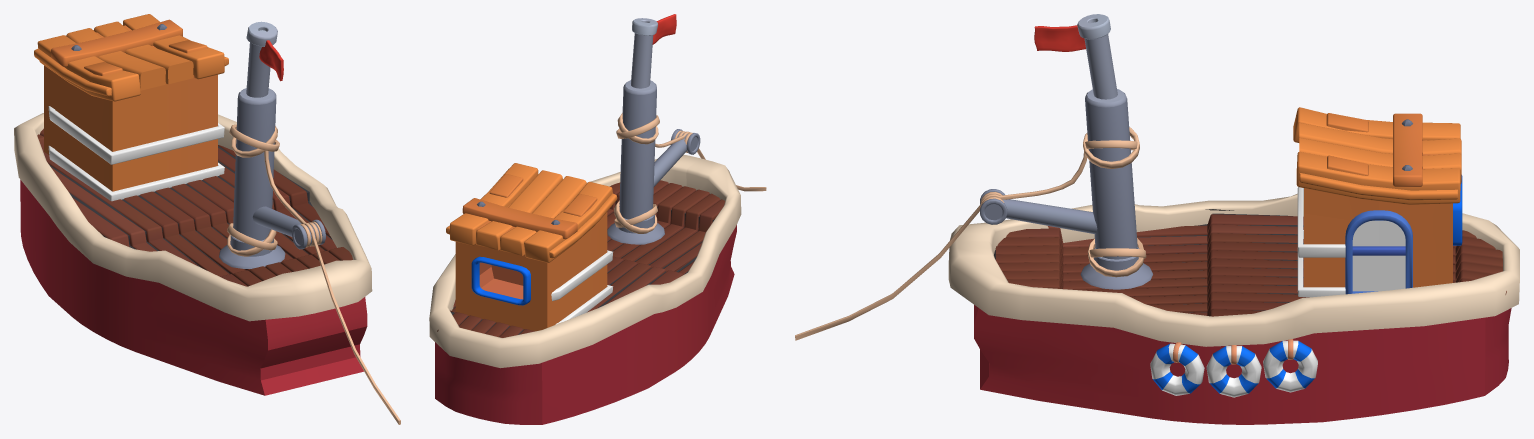
The model's file is Cute_Ship.fbx.
3 views of the same model, side by side, from view 1: azimuth 30°, elevation 25°; view 2: azimuth 150°, elevation 25°; view 3: azimuth 270°, elevation 25° (orthographic). The views are drawn at different scales.
Visible parts, largest first — view 1: Cube, Cube.009, Cube.001, Cylinder, Cube.002, Cube.008, Cube.006, Cube.025, Cube.027, Cube.024, Cube.012, Cube.010 (+18 smaller); view 2: Cube, Cube.009, Cube.001, Cylinder, Cube.002, Cube.006, Cube.003, Cube.023, Cube.024, Cube.027, Cube.010, Cube.012 (+16 smaller); view 3: Cube, Cube.009, Cube.001, Cylinder, Cube.024, Cube.015, Cube.012, Cube.011, Cube.027, Cube.013, Cube.010, Cube.006 (+18 smaller).
Boxes of the visible parts, <box> form: Cube: <box>20,146,367,395</box>; Cube.009: <box>14,113,372,321</box>; Cube.001: <box>44,25,217,191</box>; Cylinder: <box>219,21,285,268</box>; Cube.002: <box>34,35,140,101</box>; Cube.008: <box>48,106,224,164</box>; Cube.006: <box>51,19,182,67</box>; Cube.025: <box>48,145,224,201</box>; Cube.027: <box>40,128,261,286</box>; Cube.024: <box>123,14,228,79</box>; Cube.012: <box>140,191,276,280</box>; Cube.010: <box>37,134,247,286</box>; Cube: <box>435,201,736,424</box>; Cube.009: <box>429,154,741,368</box>; Cube.001: <box>455,204,607,331</box>; Cylinder: <box>607,18,664,244</box>; Cube.002: <box>524,181,617,262</box>; Cube.006: <box>462,198,577,239</box>; Cube.003: <box>476,170,562,250</box>; Cube.023: <box>500,176,586,255</box>; Cube.024: <box>446,163,538,245</box>; Cube.027: <box>519,193,720,334</box>; Cube.010: <box>587,199,725,312</box>; Cube.012: <box>499,189,709,337</box>; Cube: <box>974,209,1511,424</box>; Cube.009: <box>948,193,1519,346</box>; Cube.001: <box>1304,140,1452,291</box>; Cylinder: <box>1077,14,1152,289</box>; Cube.024: <box>1296,152,1460,204</box>; Cube.015: <box>997,262,1502,289</box>; Cube.012: <box>995,245,1502,273</box>; Cube.011: <box>995,253,1502,281</box>; Cube.027: <box>997,236,1495,264</box>; Cube.013: <box>1002,270,1492,296</box>; Cube.010: <box>1006,228,1476,256</box>; Cube.006: <box>1393,113,1422,186</box>.
Bounding box in the file's own units: 895 × 1129 × 2134.
1 material, 1 textured.
